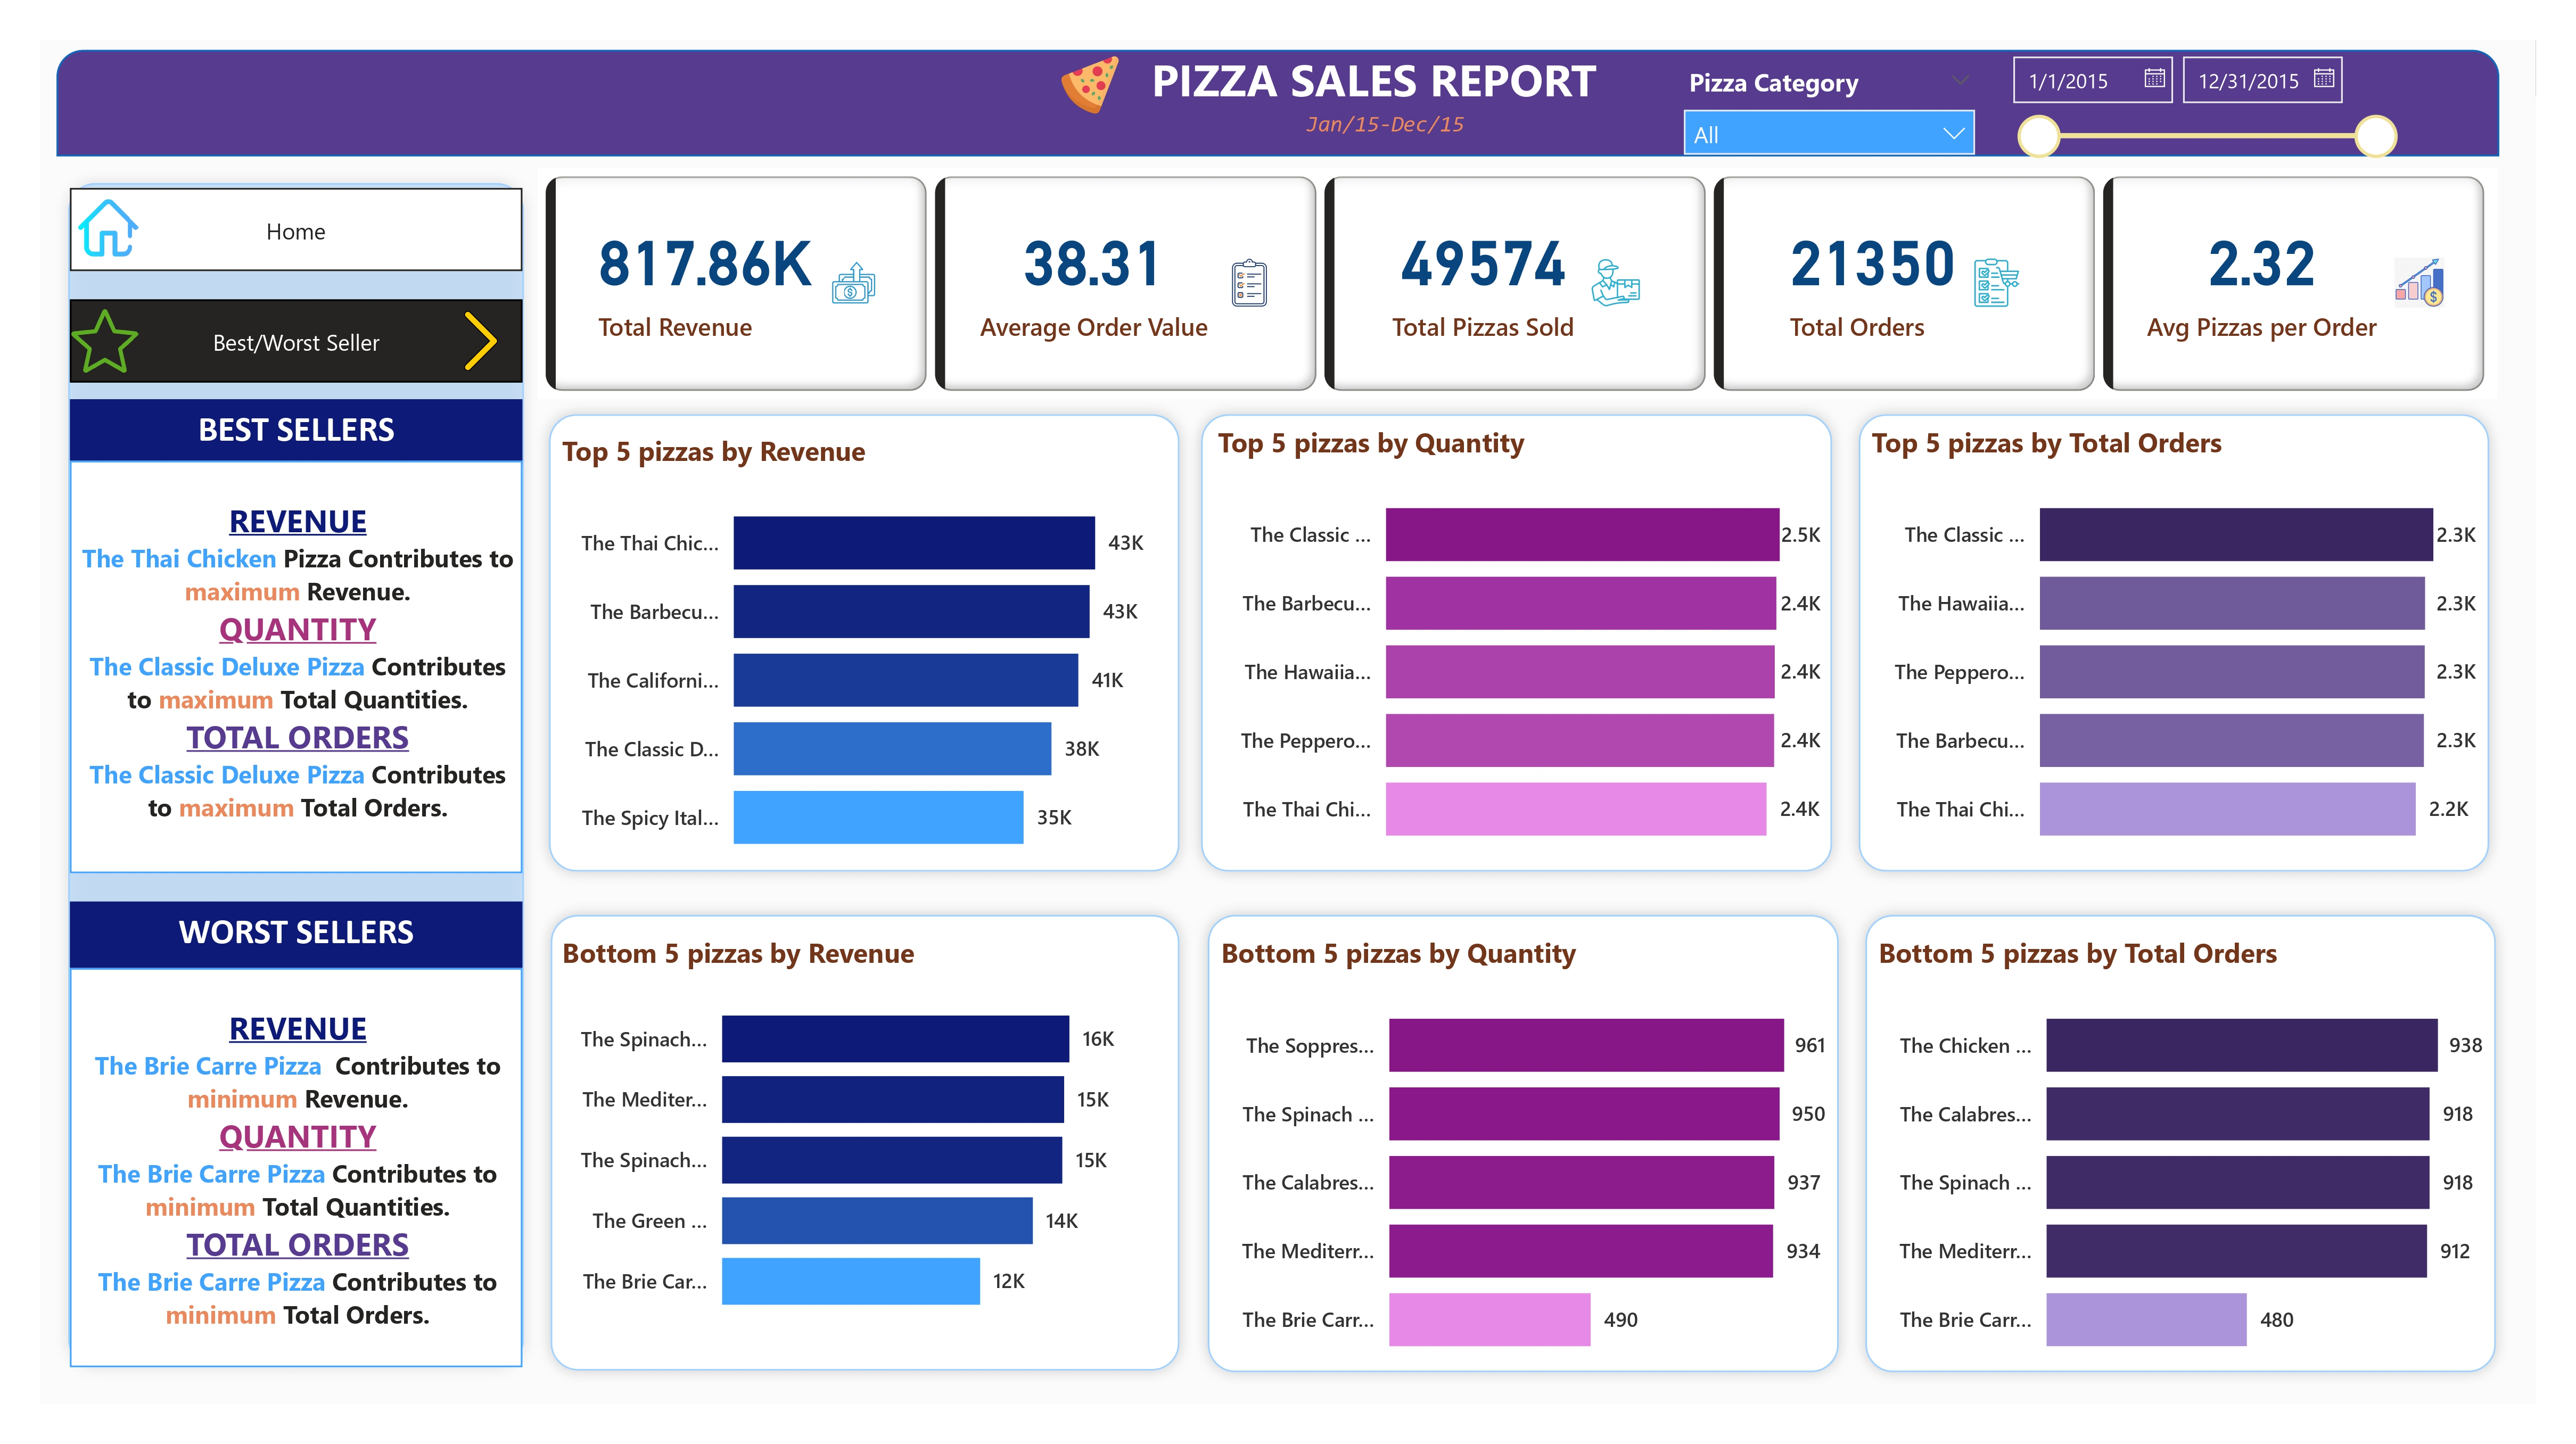

Layout of this report page (visuals, bound fields, positions):
{"tool":"powerbi","page":{"name":"Best/Worst Seller","canvas":[1500,820],"ordinal":1},"visuals":[{"type":"cardVisual","fields":{"Data":["pizza pizza_sales.Total Revenue","pizza pizza_sales.Average Order Value","pizza pizza_sales.Total Pizzas Sold","pizza pizza_sales.Total Orders","pizza pizza_sales.Avg Pizzas per Order"]},"box":[299.3,76.9,1177.3,138.8],"z":0},{"type":"shape","box":[10,6.2,1467.5,63.8],"z":1000},{"type":"textbox","box":[631.4,0,341.4,45.7],"z":2000},{"type":"textbox","box":[750,35.7,117.1,28.6],"z":3000},{"type":"image","box":[598.6,4.3,64.3,45.7],"z":4000},{"type":"shape","box":[298.3,216.7,395,291.7],"z":5000},{"type":"shape","box":[8.8,77.5,290,728.8],"z":6000},{"type":"textbox","box":[17.5,216.2,272.5,40],"z":7000},{"type":"textbox","box":[17.5,252.5,272.5,248.8],"z":8000},{"type":"textbox","box":[17.5,517.5,272.5,40],"z":9000},{"type":"textbox","box":[17.5,557.5,272.5,240],"z":10000},{"type":"slicer","fields":{"Values":["pizza pizza_sales.pizza_category"]},"box":[977.5,10,195,60],"z":11000},{"type":"slicer","fields":{"Values":["pizza pizza_sales.order_date"]},"box":[1172.5,0,252.5,77.5],"z":12000},{"type":"shape","box":[690,216.7,395,291.7],"z":13000},{"type":"shape","box":[1085,216.7,395,291.7],"z":14000},{"type":"shape","box":[298.8,517.5,393.8,290],"z":15000},{"type":"shape","box":[693.8,517.5,395,291.2],"z":16000},{"type":"shape","box":[1088.8,517.5,395,291.2],"z":17000},{"type":"barChart","title":"Top 5 pizzas by Revenue","fields":{"Y":["pizza pizza_sales.Total Revenue"],"Category":["pizza pizza_sales.pizza_name"]},"box":[308.8,236.2,381.2,270],"z":18000},{"type":"barChart","title":"Bottom 5 pizzas by Revenue","fields":{"Y":["pizza pizza_sales.Total Revenue"],"Category":["pizza pizza_sales.pizza_name"]},"box":[308.8,537.5,353.8,243.8],"z":19000},{"type":"barChart","title":"Top 5 pizzas by Quantity","fields":{"Y":["pizza pizza_sales.Total Pizzas Sold"],"Category":["pizza pizza_sales.pizza_name"]},"box":[702.5,231.2,372.5,270],"z":20000},{"type":"barChart","title":"Bottom 5 pizzas by Quantity","fields":{"Y":["pizza pizza_sales.Total Pizzas Sold"],"Category":["pizza pizza_sales.pizza_name"]},"box":[705,537.5,372.5,270],"z":21000},{"type":"barChart","title":"Top 5 pizzas by Total Orders","fields":{"Y":["pizza pizza_sales.Total Orders"],"Category":["pizza pizza_sales.pizza_name"]},"box":[1096.2,231.2,372.5,270],"z":22000},{"type":"barChart","title":"Bottom 5 pizzas by Total Orders","fields":{"Y":["pizza pizza_sales.Total Orders"],"Category":["pizza pizza_sales.pizza_name"]},"box":[1100,537.5,372.5,270],"z":23000},{"type":"pageNavigator","box":[17.5,156.2,272.5,50],"z":24000},{"type":"pageNavigator","box":[17.5,88.8,272.5,50],"z":25000},{"type":"image","box":[240,157.5,50,46.2],"z":26000},{"type":"image","box":[17.5,90,46.2,46.2],"z":27000},{"type":"image","box":[13.8,156.2,50,50],"z":28000}]}

Visuals, with their boxes in screenshot pixels (x1, y1, x2, y2):
cardVisual - pizza pizza_sales.Total Revenue x pizza pizza_sales.Average Order Value: 538:168:2497:399
shape: 56:50:2499:156
textbox: 1091:40:1659:116
textbox: 1288:100:1483:147
image: 1036:47:1143:123
shape: 536:400:1194:886
shape: 55:169:537:1381
textbox: 69:400:523:466
textbox: 69:460:523:874
textbox: 69:901:523:968
textbox: 69:968:523:1367
slicer - pizza pizza_sales.pizza_category: 1667:56:1991:156
slicer - pizza pizza_sales.order_date: 1991:40:2412:169
shape: 1188:400:1846:886
shape: 1846:400:2503:886
shape: 537:901:1192:1383
shape: 1195:901:1852:1385
shape: 1852:901:2509:1385
"Top 5 pizzas by Revenue" barChart: 554:433:1188:882
"Bottom 5 pizzas by Revenue" barChart: 554:934:1142:1340
"Top 5 pizzas by Quantity" barChart: 1209:425:1829:874
"Bottom 5 pizzas by Quantity" barChart: 1213:934:1833:1383
"Top 5 pizzas by Total Orders" barChart: 1864:425:2484:874
"Bottom 5 pizzas by Total Orders" barChart: 1871:934:2490:1383
pageNavigator: 69:300:523:383
pageNavigator: 69:188:523:271
image: 439:302:523:379
image: 69:189:146:267
image: 63:300:146:383
